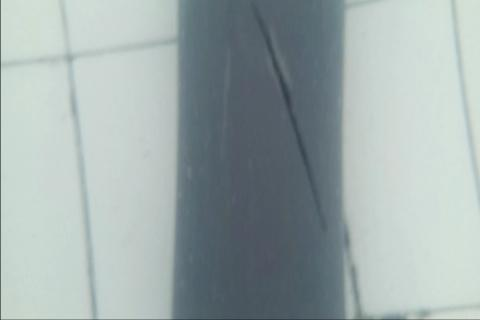keretakan: (247, 1, 329, 233)
